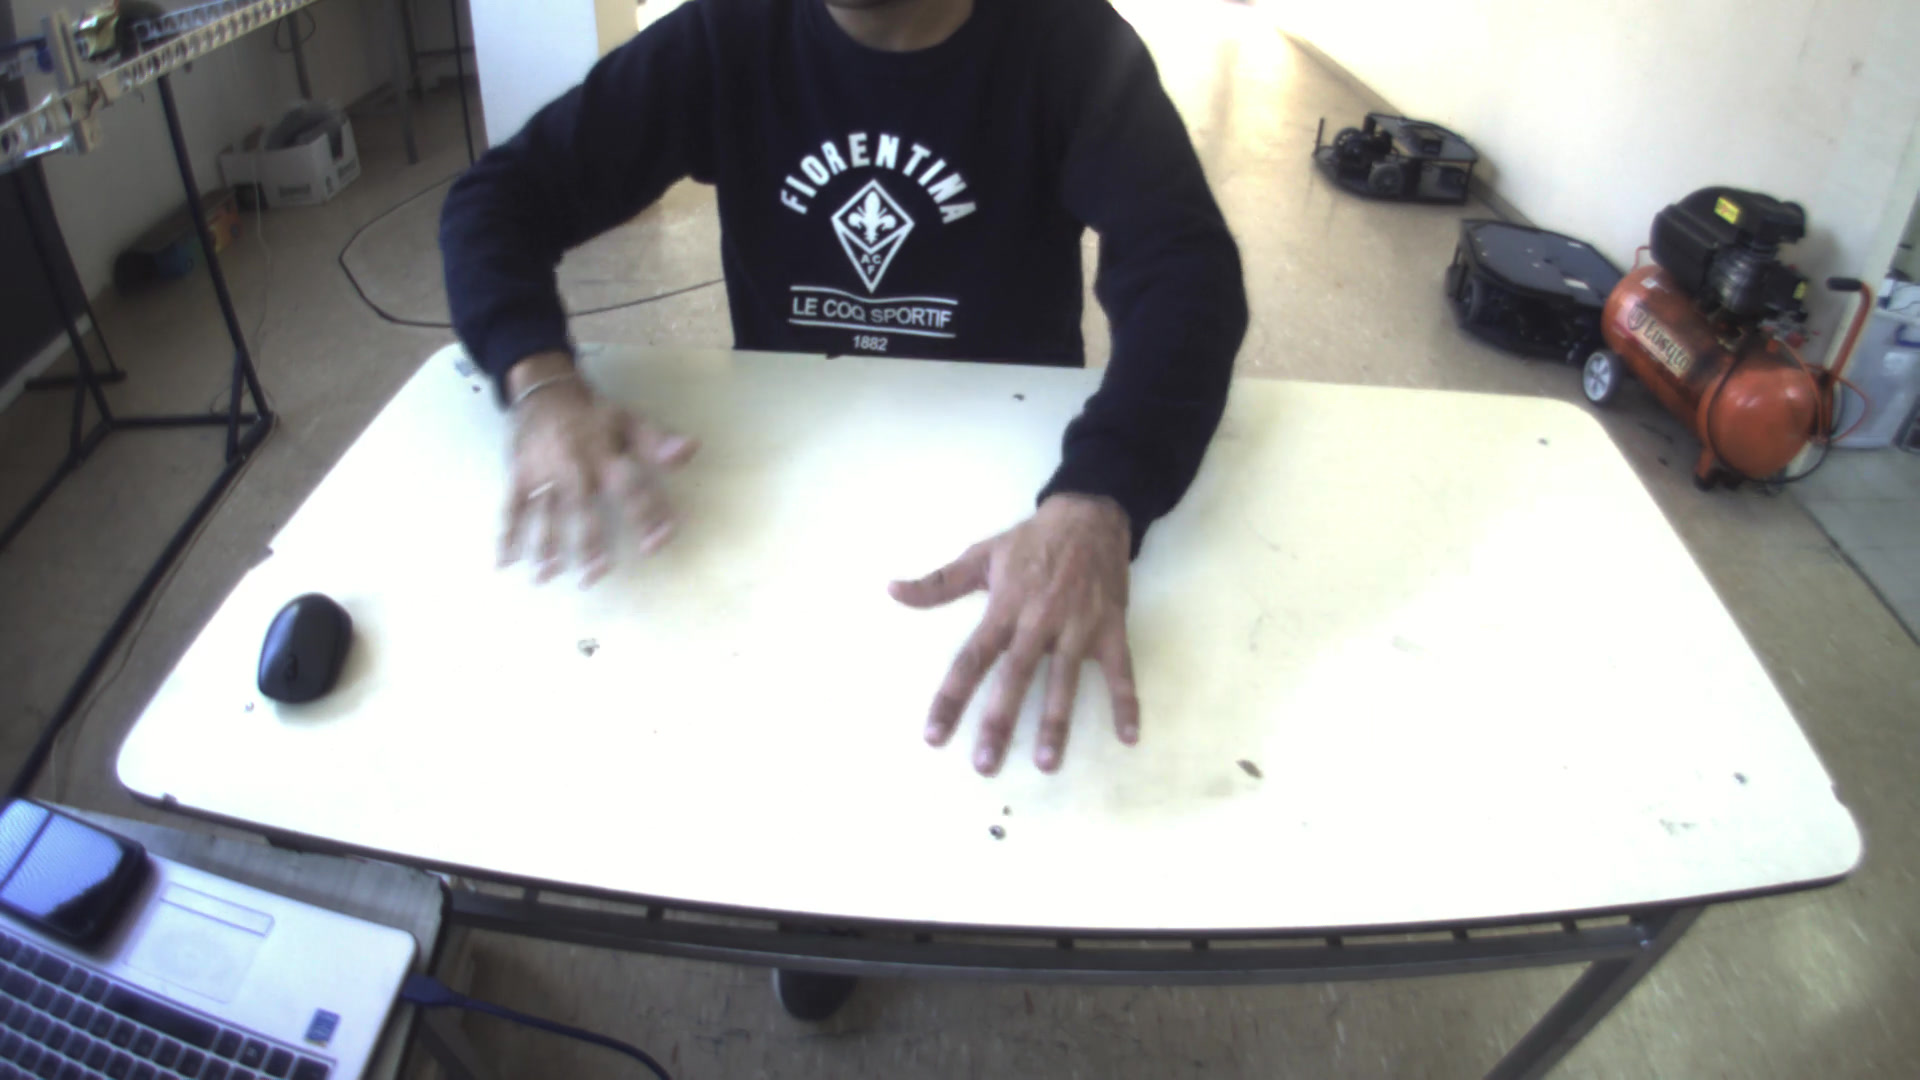hand: (877, 491, 1156, 781), (481, 359, 696, 593)
